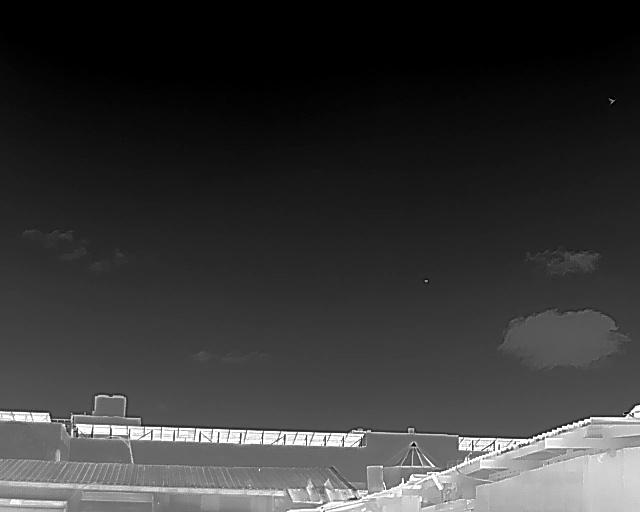fpv-drone: (423, 279, 428, 283)
